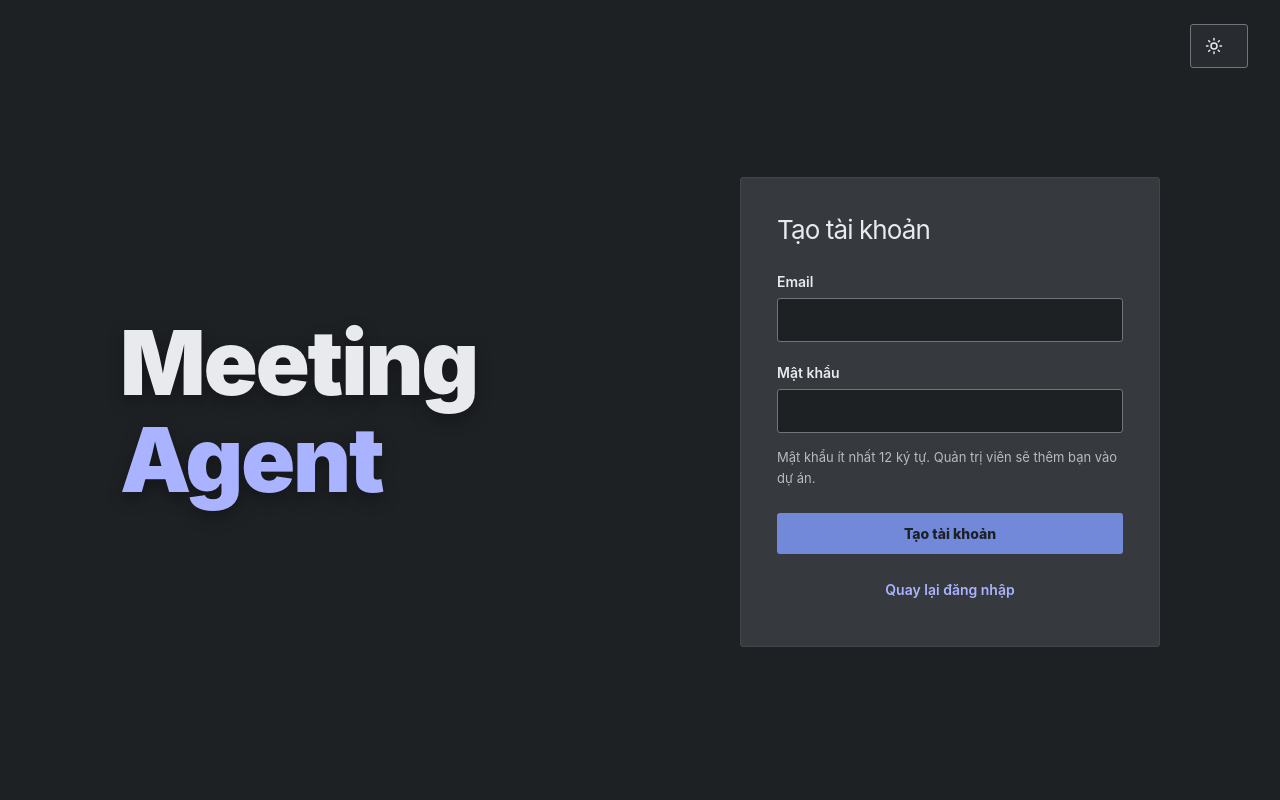
opens signup directly and links back to login
The width and height of the screenshot is (1280, 800).
Expected: the heading "Tạo tài khoản" is shown, [777,214,930,245]
Click the link "Quay lại đăng nhập" at (950, 590), box [885,581,1015,598]
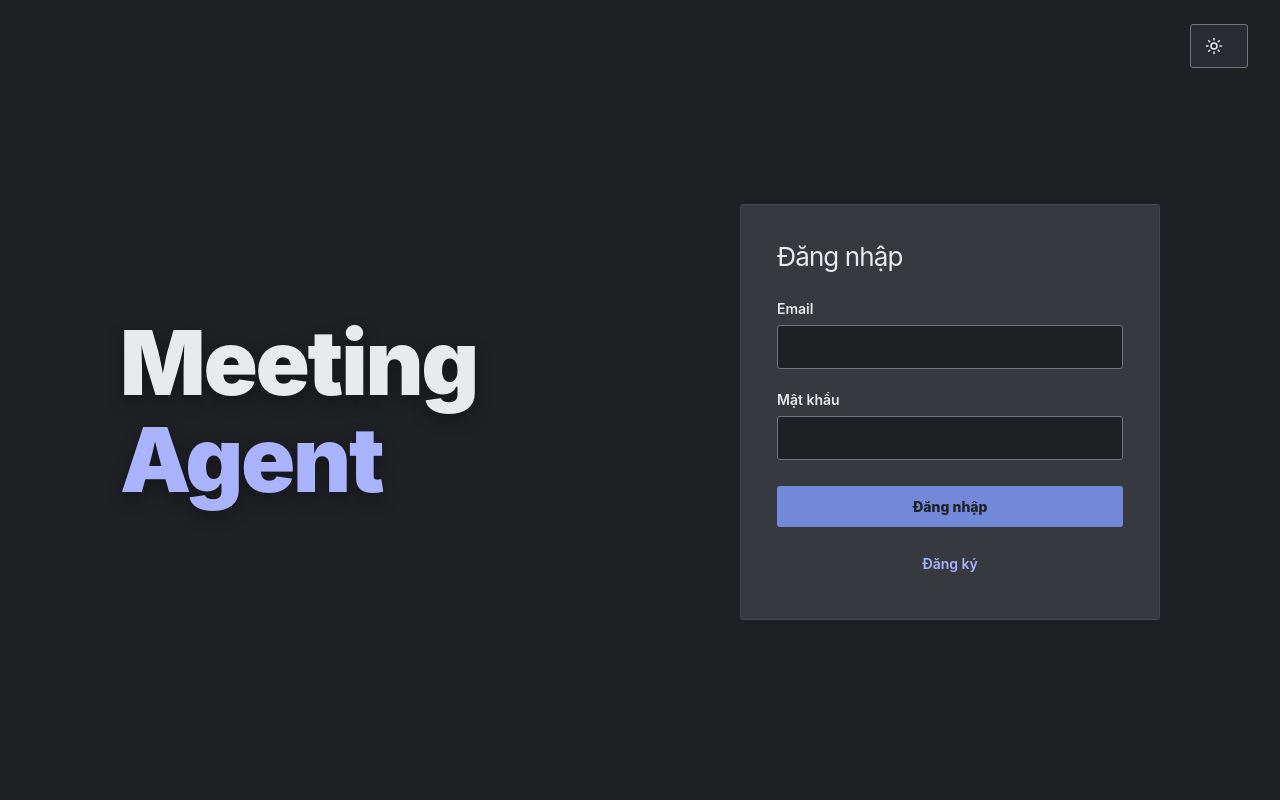
Expected: the heading "Đăng nhập" is shown, [777,241,902,272]
